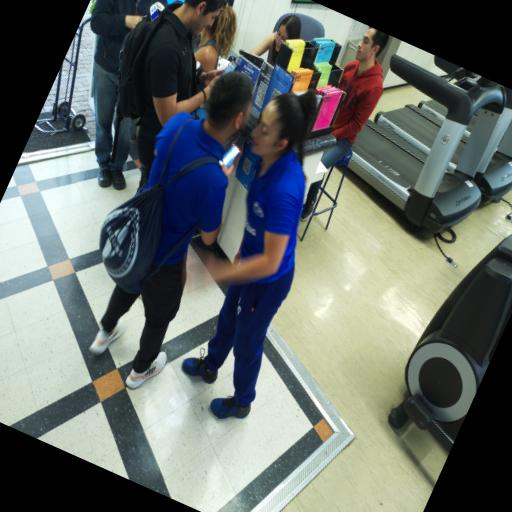person: (183, 90, 316, 419), (137, 0, 227, 189), (91, 0, 166, 190), (147, 72, 252, 186), (321, 28, 389, 168), (194, 6, 236, 72), (251, 15, 301, 65)
